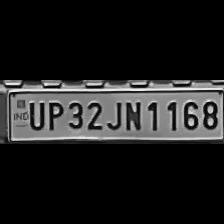1: (143, 98, 161, 132), (161, 98, 179, 132)
2: (83, 98, 103, 130)
3: (64, 98, 84, 130)
6: (179, 97, 199, 131)
8: (198, 97, 218, 130)
J: (105, 97, 123, 131)
N: (121, 98, 143, 132)
P: (43, 98, 63, 132)
U: (26, 98, 44, 130)
